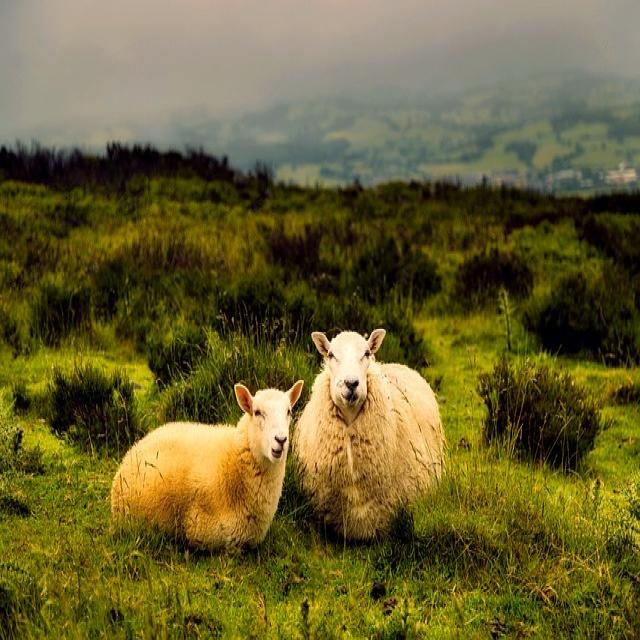goat: (289, 329, 445, 550), (111, 380, 304, 557)
